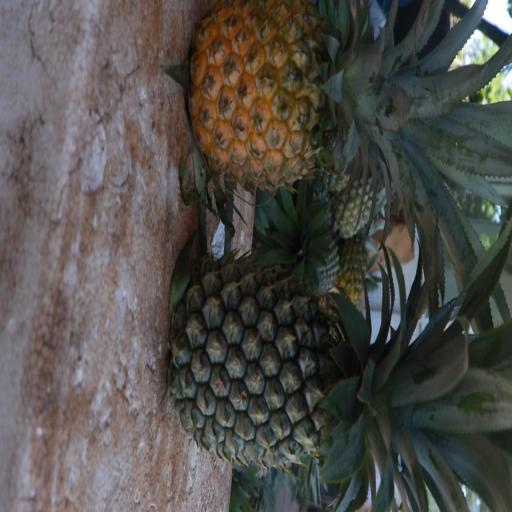Pineapple - v8 v1: (193, 6, 461, 186)
